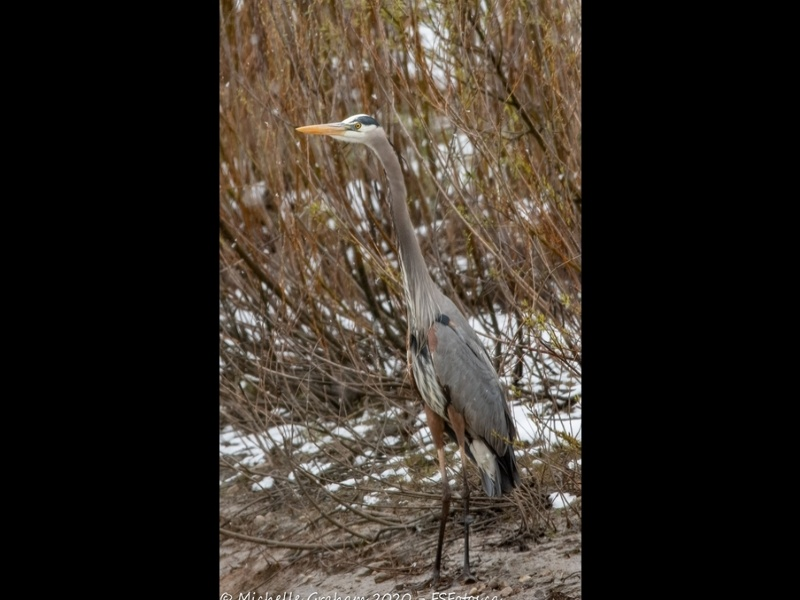heron: (291, 110, 521, 566)
